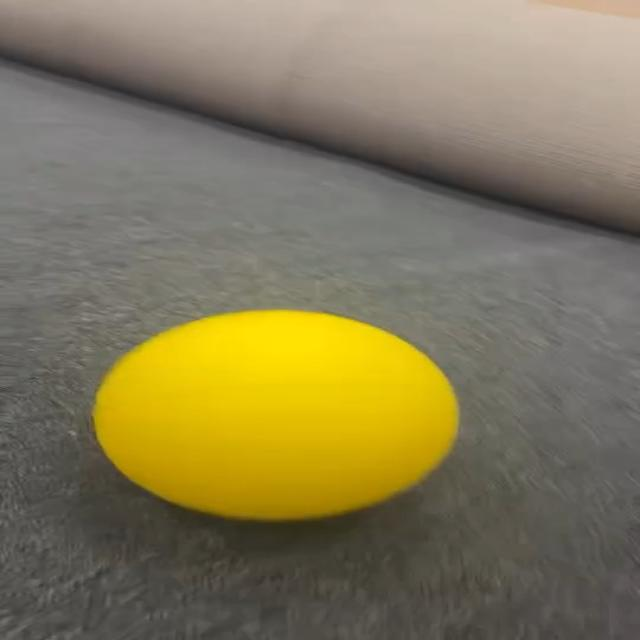Fuels: (94, 310, 458, 520)
